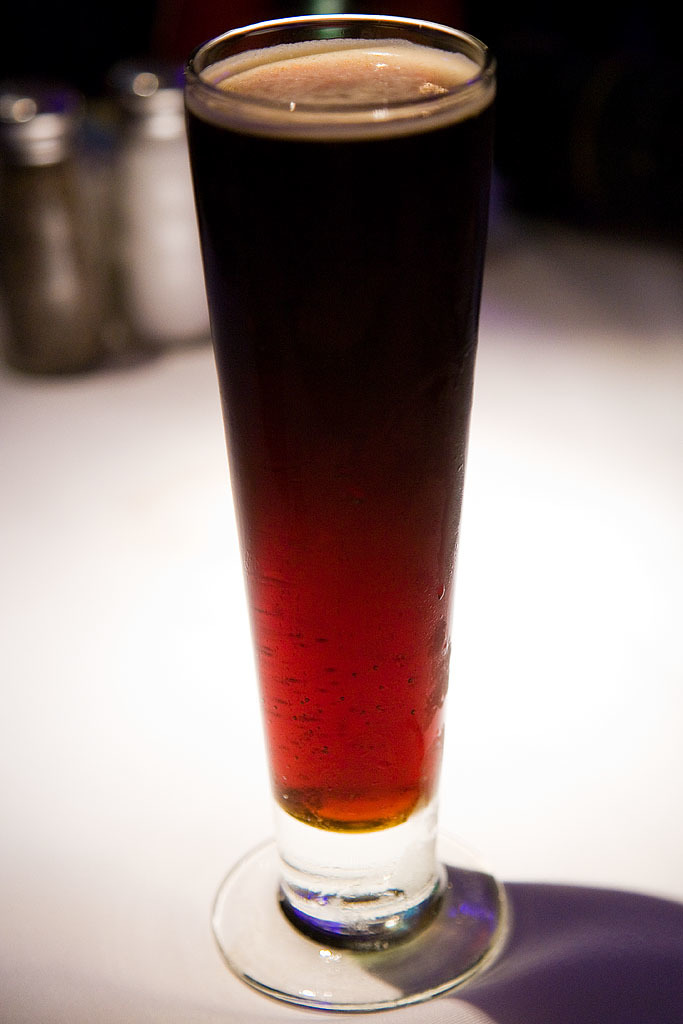Beer: (183, 14, 509, 1011)
